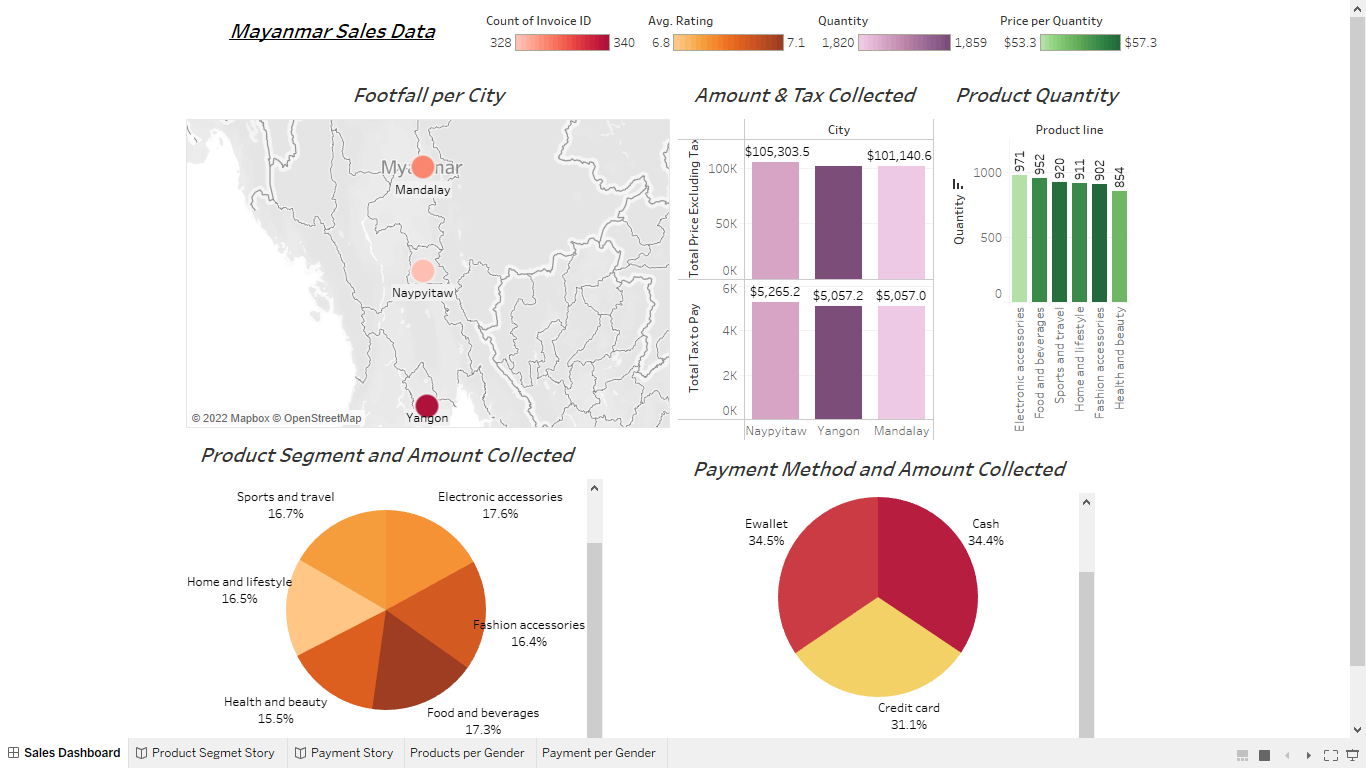

The page's visual inventory and layout, read from the dashboard file:
{"tool":"tableau","page":{"name":"Sales Dashboard","canvas":[1000,800],"ordinal":0},"visuals":[{"type":"worksheet","title":"Mayanmar Sales Data","mark":"Automatic","box":[8,8,300,64]},{"type":"legend","title":"Footfall per City","param":"[federated.16s047p17z9gxr1auuvlw0gdlfu4].[cnt:Invoice ID:qk]","box":[308,8,162,64]},{"type":"legend","title":"Product Segment and Amount Collected","param":"[federated.16s047p17z9gxr1auuvlw0gdlfu4].[avg:Rating:qk]","box":[470,8,170,64]},{"type":"legend","title":"Amount & Tax Collected ","param":"[federated.16s047p17z9gxr1auuvlw0gdlfu4].[sum:Quantity:qk]","box":[640,8,182,64]},{"type":"legend","title":"Product Quantity","param":"[federated.16s047p17z9gxr1auuvlw0gdlfu4].[usr:Calculation_1205557341522288641:qk","box":[822,8,170,64]},{"type":"worksheet","title":"Footfall per City","mark":"Automatic","box":[8,72,492,360]},{"type":"worksheet","title":"Amount & Tax Collected ","mark":"Automatic","rows":["Total Price Excluding Tax","Total Tax to Pay"],"cols":["City"],"box":[500,72,265,373.7]},{"type":"worksheet","title":"Product Quantity","mark":"Automatic","rows":["Quantity"],"cols":["Product line"],"box":[765,72,227,373.7]},{"type":"worksheet","title":"Product Segment and Amount Collected","mark":"Pie","box":[8,432,492,360]},{"type":"worksheet","title":"Payment Method and Amount Collected","mark":"Pie","box":[500,445.7,492,346.3]}]}

Visuals, with their boxes in screenshot pixels (x1, y1, x2, y2):
"Mayanmar Sales Data" worksheet: box(363, 32, 637, 91)
"Footfall per City" legend: box(637, 32, 785, 91)
"Product Segment and Amount Collected" legend: box(785, 32, 940, 91)
"Amount & Tax Collected " legend: box(940, 32, 1107, 91)
"Product Quantity" legend: box(1107, 32, 1262, 91)
"Footfall per City" worksheet: box(363, 91, 813, 420)
"Amount & Tax Collected " worksheet: box(813, 91, 1055, 432)
"Product Quantity" worksheet: box(1055, 91, 1262, 432)
"Product Segment and Amount Collected" worksheet (Pie marks): box(363, 420, 813, 748)
"Payment Method and Amount Collected" worksheet (Pie marks): box(813, 432, 1262, 748)
